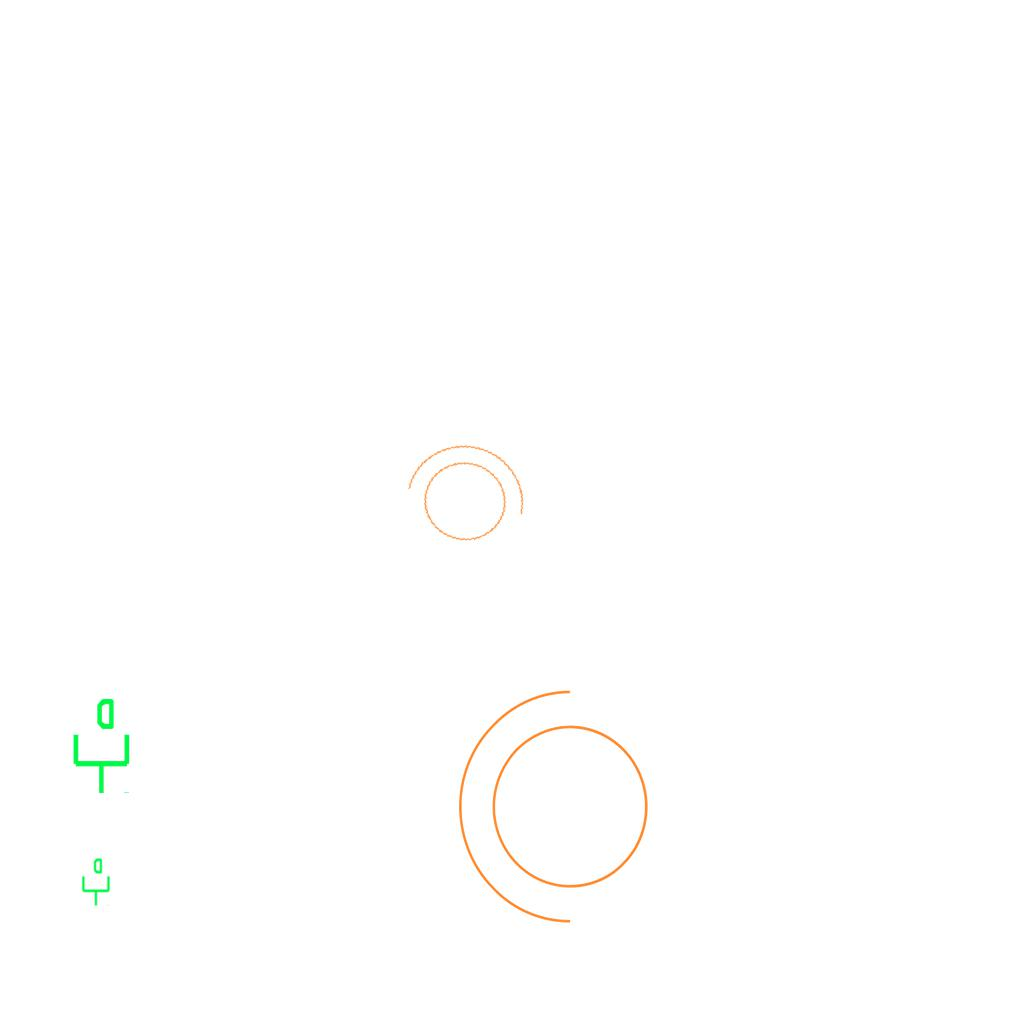Datenanschluss_einfach: (65, 696, 134, 796), (78, 857, 112, 907)
Scheinwerfer_fuer_Alarmbeleuchtung: (448, 681, 673, 945), (386, 426, 540, 566)
